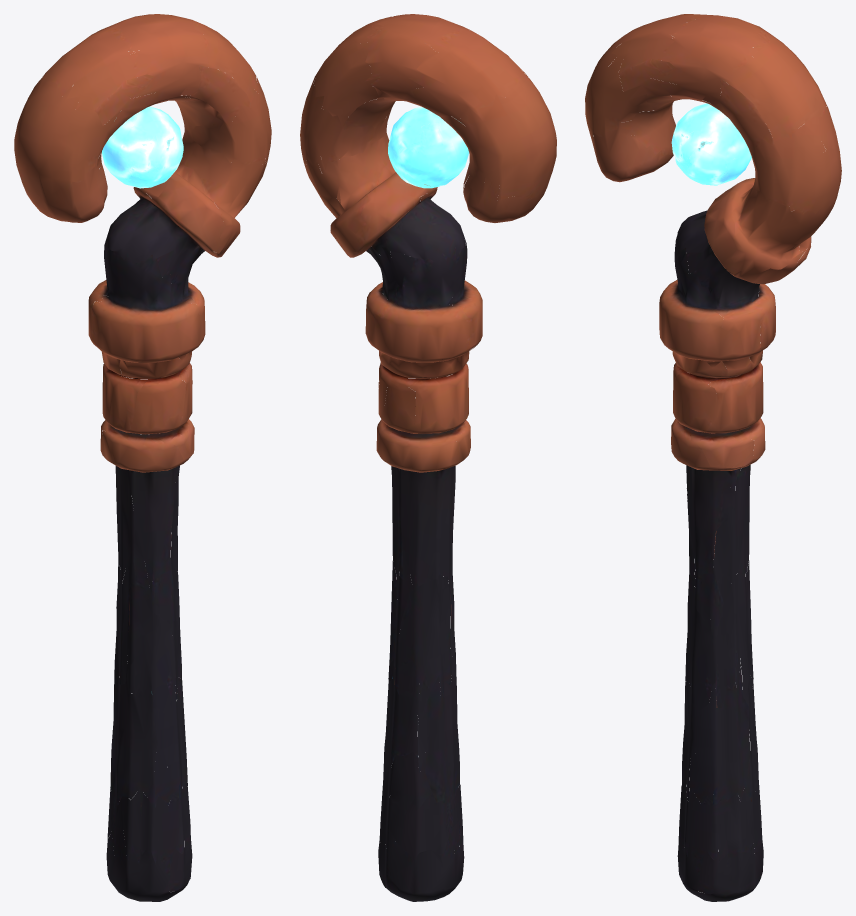
File: Arm_storm_staff-DZJUftfn.glb
3 renders of one model, left to right at view 1: azimuth 30°, elevation 25°; view 2: azimuth 150°, elevation 25°; view 3: azimuth 330°, elevation 25°, orthographic.
Visible parts, largest first — view 1: Arm_storm_staff; view 2: Arm_storm_staff; view 3: Arm_storm_staff.
Boxes of the visible parts, x1=… form: Arm_storm_staff: x1=14, y1=14, x2=271, y2=901; Arm_storm_staff: x1=300, y1=14, x2=556, y2=901; Arm_storm_staff: x1=585, y1=14, x2=841, y2=901.
Size of the model in its own units: 0.6639 by 2.3 by 0.2871.
1 material, 1 textured.
